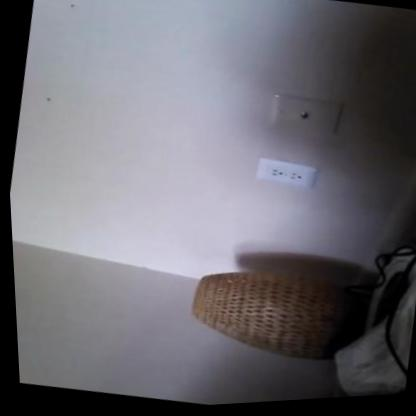OUTLET: (253, 152, 317, 190)
